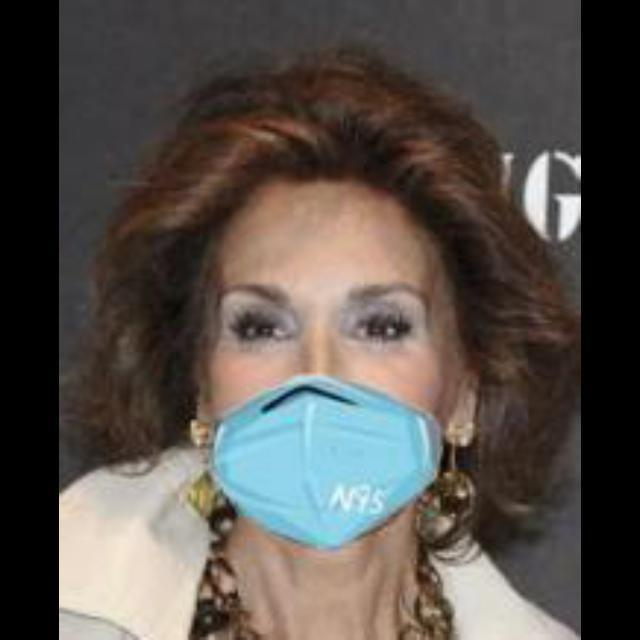suspicion: (155, 109, 510, 534)
